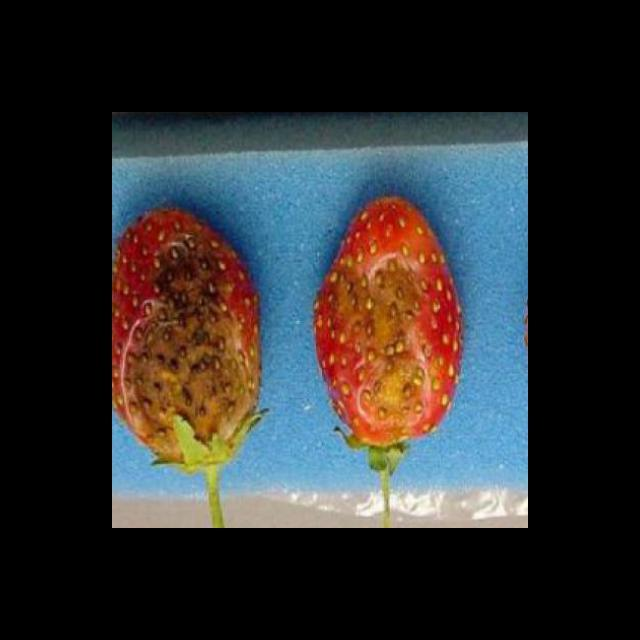Anthracnose Fruit Rot: (112, 214, 263, 465), (323, 246, 446, 447)
